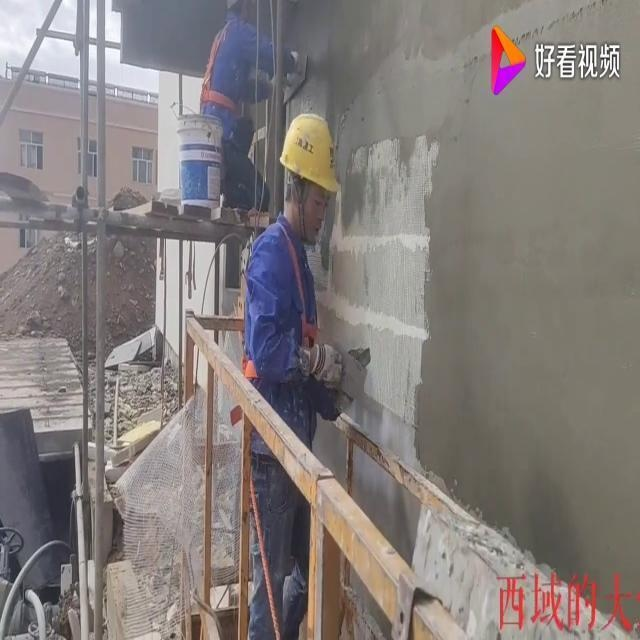Arnes_seguridad: (238, 213, 324, 389), (197, 12, 251, 126)
